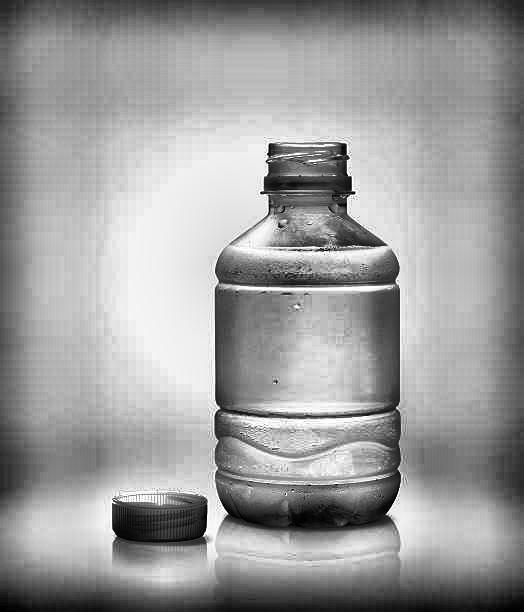waterbottle: (206, 116, 413, 540)
